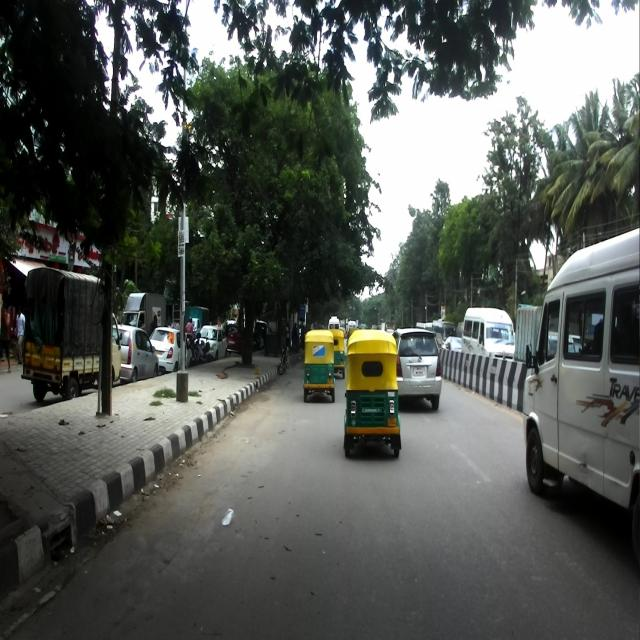Car_Toyota: (396, 323, 442, 411)
autorickshaw: (343, 328, 401, 458)
mini-bus: (522, 227, 639, 572)
